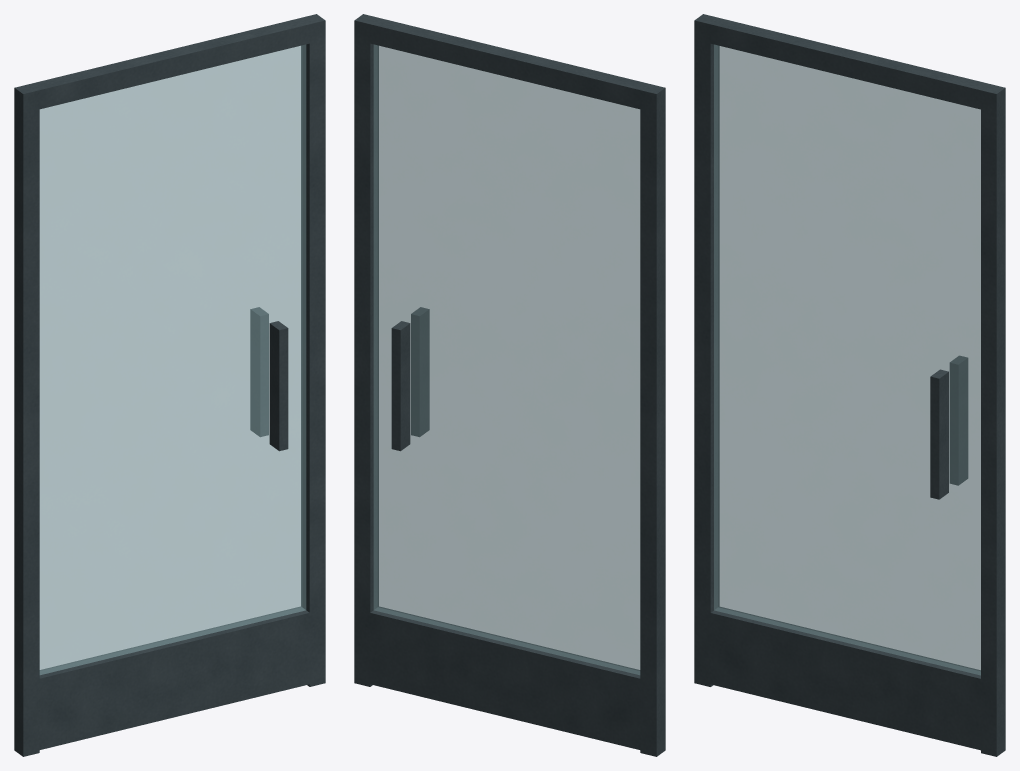
The model's file is CW24_10_Optional_Hinged_ShopDoor.glb.
3 renders of one model, left to right at view 1: azimuth 30°, elevation 25°; view 2: azimuth 150°, elevation 25°; view 3: azimuth 330°, elevation 25°, orthographic.
Visible parts, largest first — view 1: Optional_Glass_ShopDoor__Door_Safety_Glass, Optional_Glass_ShopDoor__Door_Leaf_Frame_LowerRail, Optional_Glass_ShopDoor__Door_Leaf_Frame_Left, Optional_Glass_ShopDoor__Door_Leaf_Frame_Right, Optional_Glass_ShopDoor__Door_Leaf_Frame_TopRail, Optional_Glass_ShopDoor__Door_Handle_Bar_Front, Optional_Glass_ShopDoor__Door_Handle_Bar_Rear; view 2: Optional_Glass_ShopDoor__Door_Safety_Glass, Optional_Glass_ShopDoor__Door_Leaf_Frame_LowerRail, Optional_Glass_ShopDoor__Door_Leaf_Frame_Left, Optional_Glass_ShopDoor__Door_Leaf_Frame_Right, Optional_Glass_ShopDoor__Door_Leaf_Frame_TopRail, Optional_Glass_ShopDoor__Door_Handle_Bar_Rear, Optional_Glass_ShopDoor__Door_Handle_Bar_Front; view 3: Optional_Glass_ShopDoor__Door_Safety_Glass, Optional_Glass_ShopDoor__Door_Leaf_Frame_LowerRail, Optional_Glass_ShopDoor__Door_Leaf_Frame_Right, Optional_Glass_ShopDoor__Door_Leaf_Frame_Left, Optional_Glass_ShopDoor__Door_Leaf_Frame_TopRail, Optional_Glass_ShopDoor__Door_Handle_Bar_Front, Optional_Glass_ShopDoor__Door_Handle_Bar_Rear.
Boxes of the visible parts, left/top/right/bottom form: Optional_Glass_ShopDoor__Door_Safety_Glass: left=39, top=44, right=306, bottom=674; Optional_Glass_ShopDoor__Door_Leaf_Frame_LowerRail: left=39, top=606, right=312, bottom=749; Optional_Glass_ShopDoor__Door_Leaf_Frame_Left: left=14, top=84, right=39, bottom=756; Optional_Glass_ShopDoor__Door_Leaf_Frame_Right: left=301, top=14, right=325, bottom=686; Optional_Glass_ShopDoor__Door_Leaf_Frame_TopRail: left=31, top=17, right=312, bottom=109; Optional_Glass_ShopDoor__Door_Handle_Bar_Front: left=269, top=321, right=288, bottom=451; Optional_Glass_ShopDoor__Door_Handle_Bar_Rear: left=250, top=307, right=268, bottom=436; Optional_Glass_ShopDoor__Door_Safety_Glass: left=373, top=44, right=640, bottom=674; Optional_Glass_ShopDoor__Door_Leaf_Frame_LowerRail: left=367, top=606, right=640, bottom=749; Optional_Glass_ShopDoor__Door_Leaf_Frame_Left: left=640, top=84, right=665, bottom=756; Optional_Glass_ShopDoor__Door_Leaf_Frame_Right: left=354, top=14, right=378, bottom=686; Optional_Glass_ShopDoor__Door_Leaf_Frame_TopRail: left=367, top=17, right=648, bottom=109; Optional_Glass_ShopDoor__Door_Handle_Bar_Rear: left=391, top=321, right=410, bottom=451; Optional_Glass_ShopDoor__Door_Handle_Bar_Front: left=411, top=307, right=429, bottom=436; Optional_Glass_ShopDoor__Door_Safety_Glass: left=714, top=44, right=980, bottom=675; Optional_Glass_ShopDoor__Door_Leaf_Frame_LowerRail: left=710, top=607, right=980, bottom=750; Optional_Glass_ShopDoor__Door_Leaf_Frame_Right: left=981, top=84, right=1005, bottom=756; Optional_Glass_ShopDoor__Door_Leaf_Frame_Left: left=694, top=14, right=719, bottom=686; Optional_Glass_ShopDoor__Door_Leaf_Frame_TopRail: left=710, top=18, right=991, bottom=109; Optional_Glass_ShopDoor__Door_Handle_Bar_Front: left=930, top=369, right=948, bottom=499; Optional_Glass_ShopDoor__Door_Handle_Bar_Rear: left=950, top=356, right=967, bottom=485.
Size of the model in its own units: 1.15 by 2.41 by 0.19.
2 materials, 2 textured.
